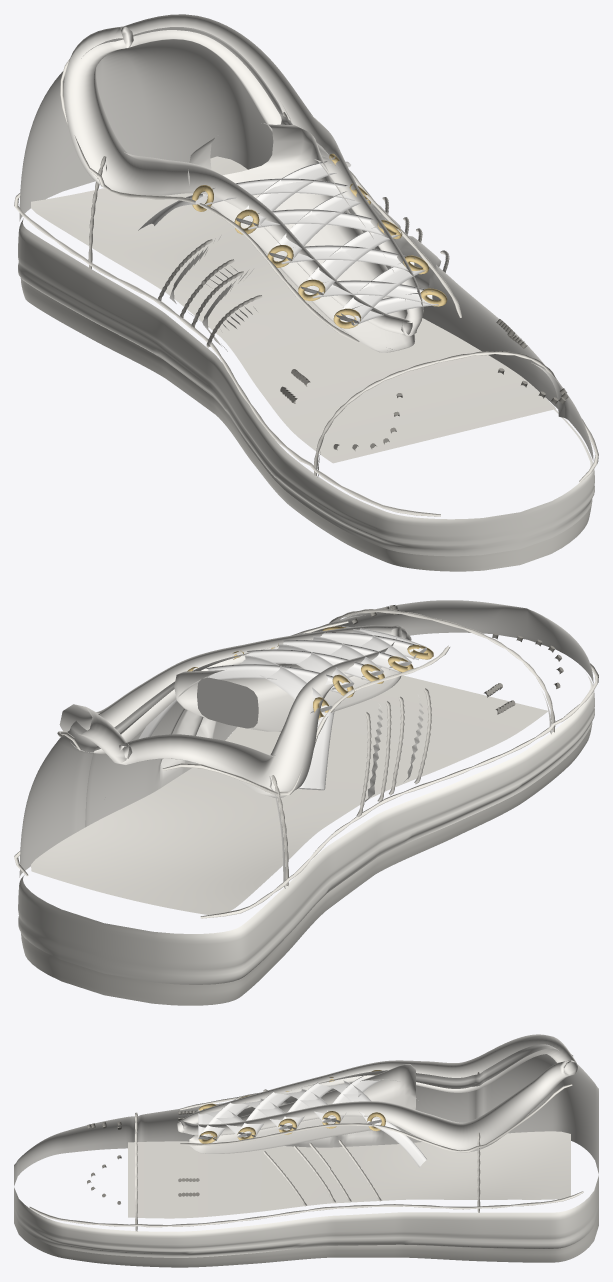
3 views of the same model, one above another, from view 1: azimuth 30°, elevation 25°; view 2: azimuth 150°, elevation 25°; view 3: azimuth 270°, elevation 25° (orthographic). The views are drawn at different scales.
Parts seen in each view (by area): view 1: ZAPATILLA_ESTUDIO; view 2: ZAPATILLA_ESTUDIO; view 3: ZAPATILLA_ESTUDIO.
Part boxes in pixels (x1,y1,x2,y2): ZAPATILLA_ESTUDIO: [14, 14, 598, 571]; ZAPATILLA_ESTUDIO: [14, 600, 598, 1005]; ZAPATILLA_ESTUDIO: [14, 1034, 598, 1267].
Bounding box in the file's own units: 0.1029 × 0.0942 × 0.285.
